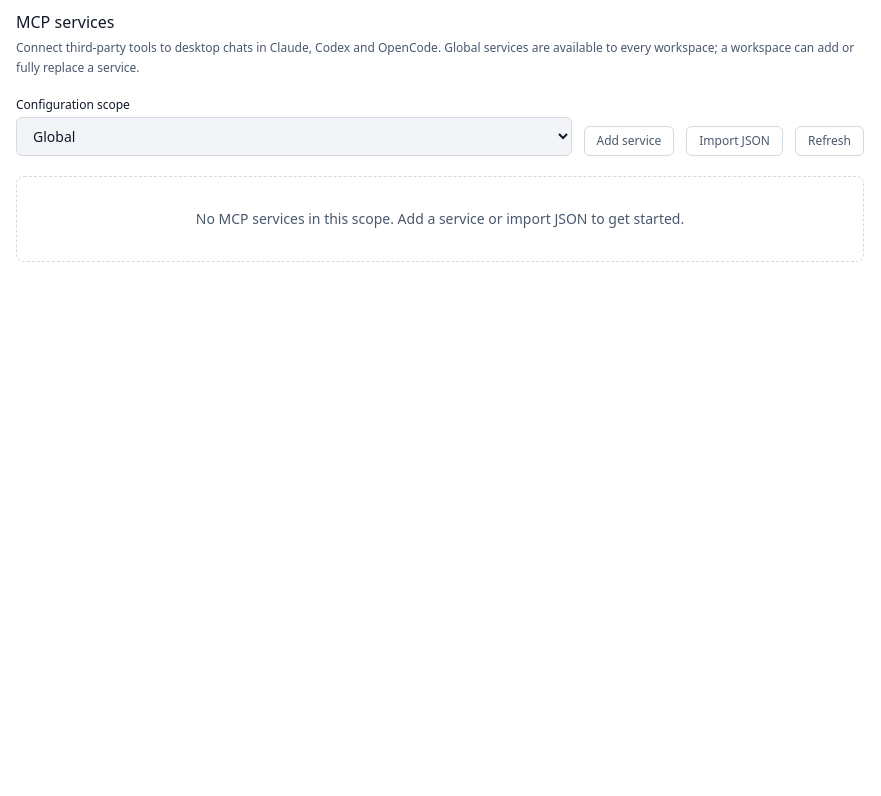
submits argv as independent values and clears the secret draft after saving
Click the button "Add service": (629, 141) [584,126,674,156]
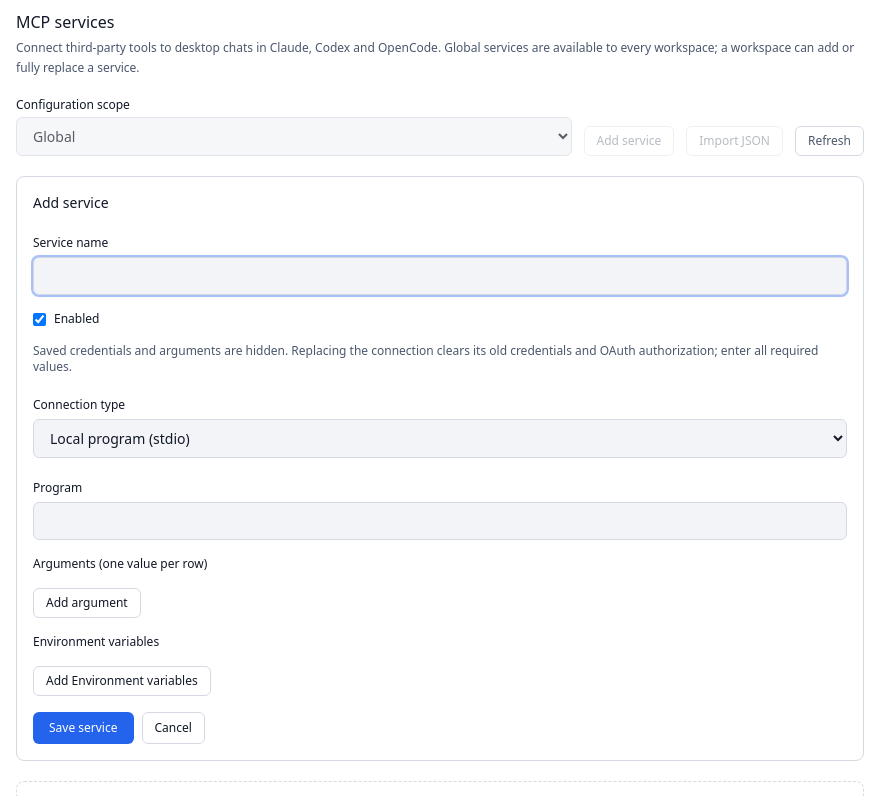
In the field labelled "Service name": (440, 276) [33,257,847,295], type "example"
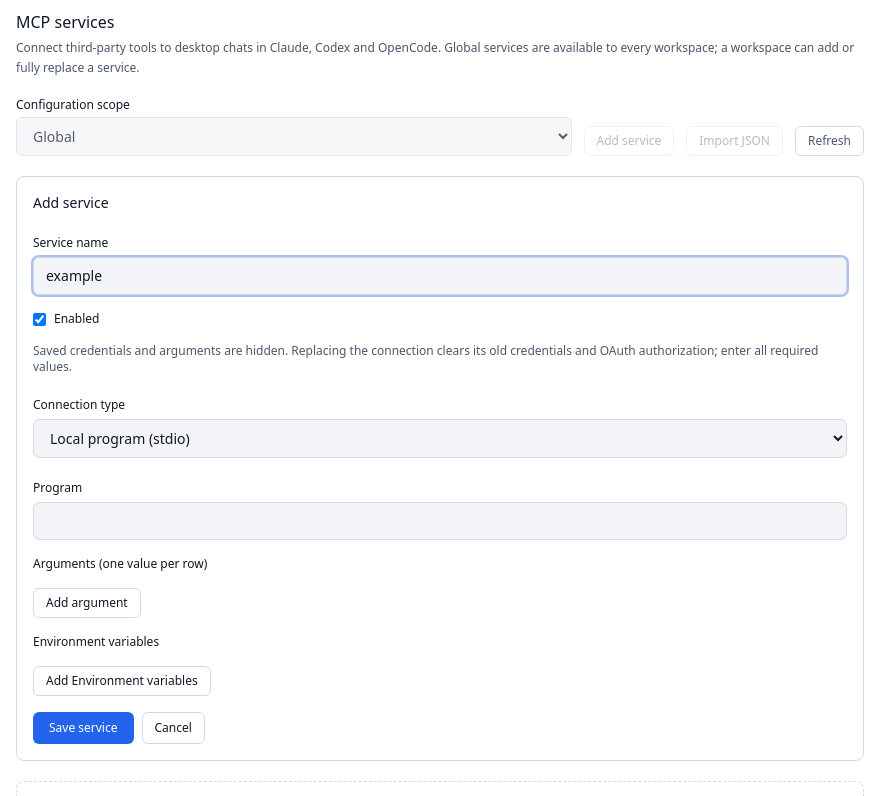
In the field labelled "Program": (440, 521) [33,502,847,540], type "node"
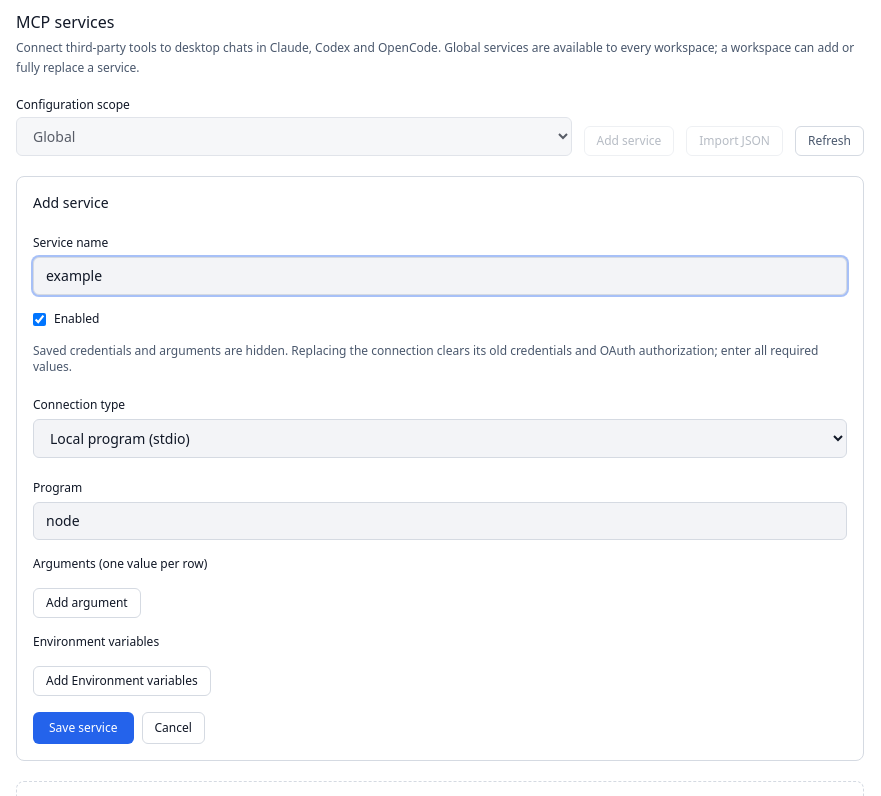
Click the button "Add argument": (87, 603) [33,588,141,618]
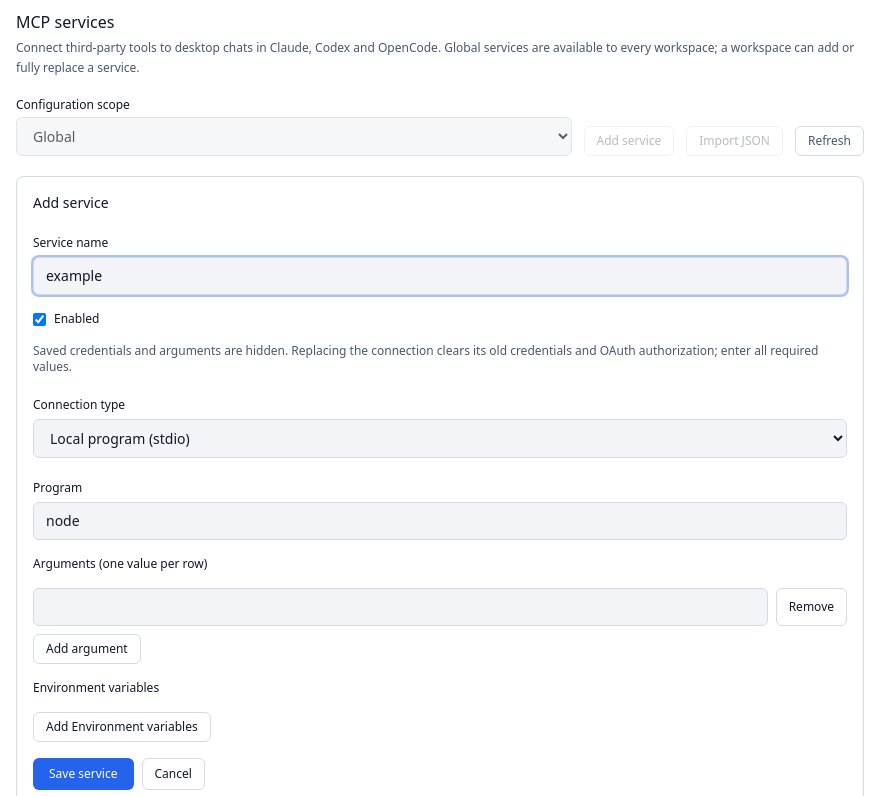
In the field named "Argument 1": (400, 607) [33,588,768,626], type "a b"
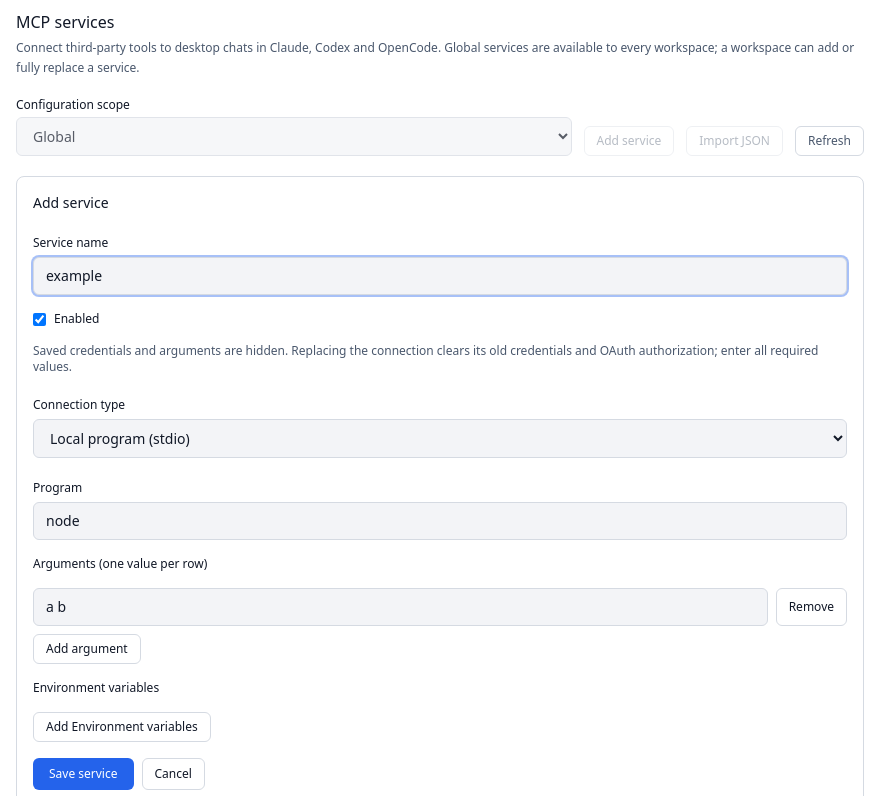
Click the button "Save service": (83, 774) [33,758,134,790]
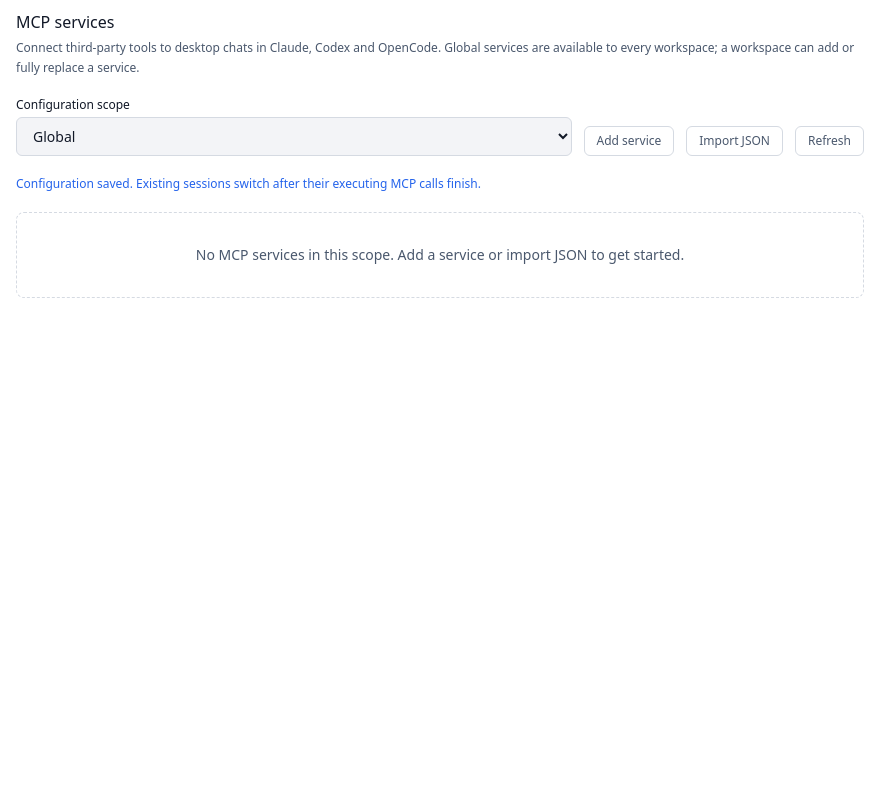
Check: the text labelled "Service name" is gone
